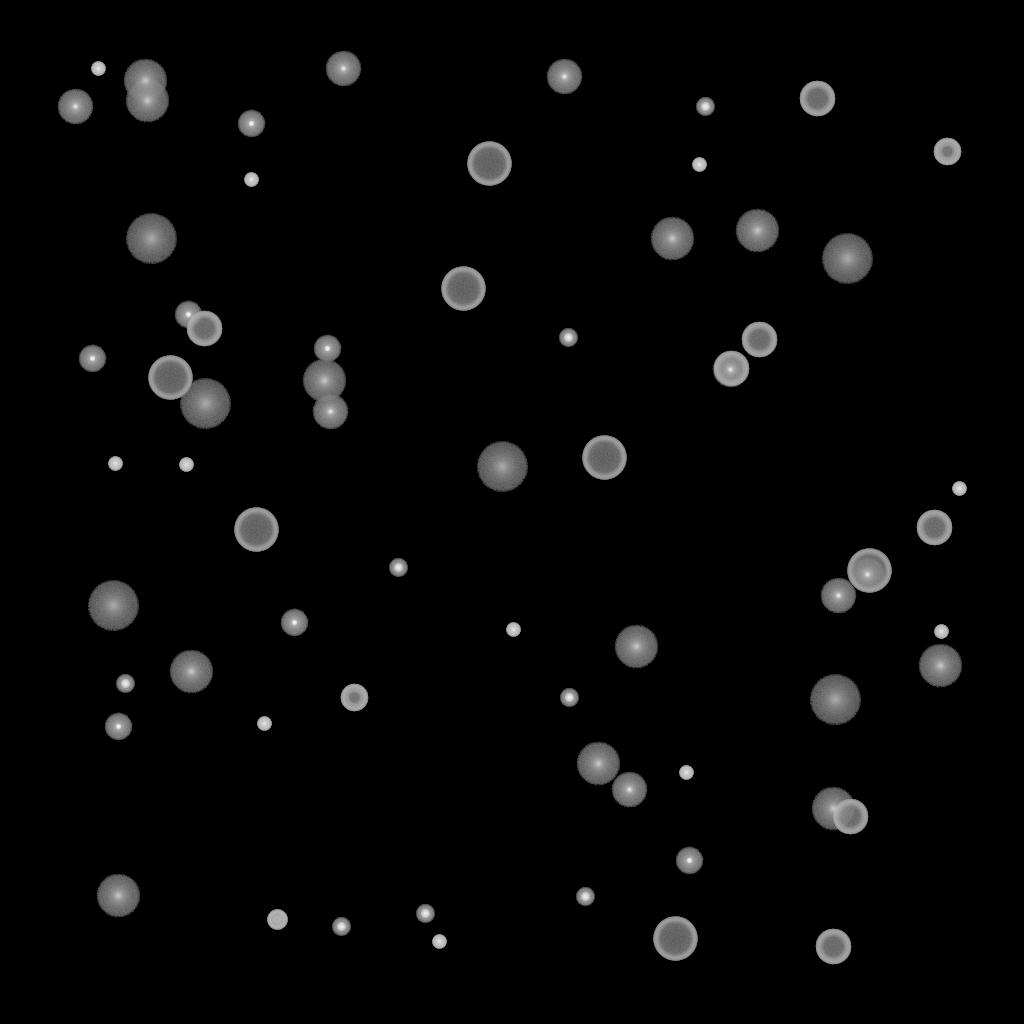depth:-10: (237, 110, 265, 138), (174, 301, 202, 329), (313, 335, 341, 363), (104, 713, 132, 741), (78, 345, 106, 373), (675, 847, 703, 875), (280, 609, 308, 637)
depth:-20: (389, 559, 407, 577), (116, 675, 134, 693), (560, 689, 578, 707), (332, 918, 350, 936), (416, 905, 434, 923), (576, 888, 594, 906), (559, 329, 577, 347), (696, 98, 714, 116)
depth:-30: (108, 457, 122, 471), (934, 625, 948, 639), (91, 62, 105, 76), (244, 173, 258, 187), (692, 158, 706, 172), (506, 623, 520, 637), (257, 717, 271, 731), (952, 482, 966, 496), (679, 766, 693, 780), (432, 935, 446, 949), (179, 458, 193, 472)
depth:-40: (267, 910, 287, 930)
depth:-50: (340, 684, 368, 712), (933, 138, 961, 166)
depth:-60: (713, 351, 749, 387), (186, 311, 222, 347), (832, 799, 868, 835), (815, 929, 851, 965), (799, 81, 835, 117), (741, 322, 777, 358), (916, 510, 952, 546)
depth:-70: (234, 508, 278, 552), (847, 549, 891, 593), (582, 436, 626, 480), (148, 356, 192, 400), (441, 267, 485, 311), (653, 917, 697, 961), (467, 142, 511, 186)
depth:0: (820, 578, 856, 614), (611, 772, 647, 808), (57, 89, 93, 125), (849, 557, 885, 593), (546, 59, 582, 95), (712, 352, 748, 388), (325, 51, 361, 87), (312, 394, 348, 430)
depth:10: (302, 359, 346, 403), (811, 787, 855, 831), (96, 874, 140, 918), (735, 209, 779, 253), (169, 650, 213, 694), (650, 217, 694, 261), (125, 79, 169, 123), (918, 644, 962, 688), (576, 742, 620, 786), (614, 625, 658, 669), (123, 59, 167, 103)
depth:20: (87, 581, 139, 631), (476, 442, 528, 492), (821, 234, 873, 284), (179, 379, 231, 429), (125, 214, 177, 264), (809, 675, 861, 725)
